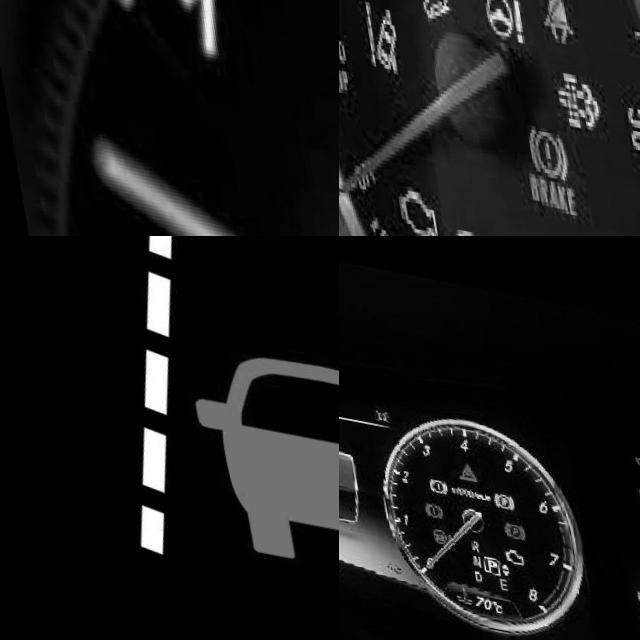Electronic Power Steering: (469, 0, 521, 37)
Seat Belt: (531, 0, 564, 31)
